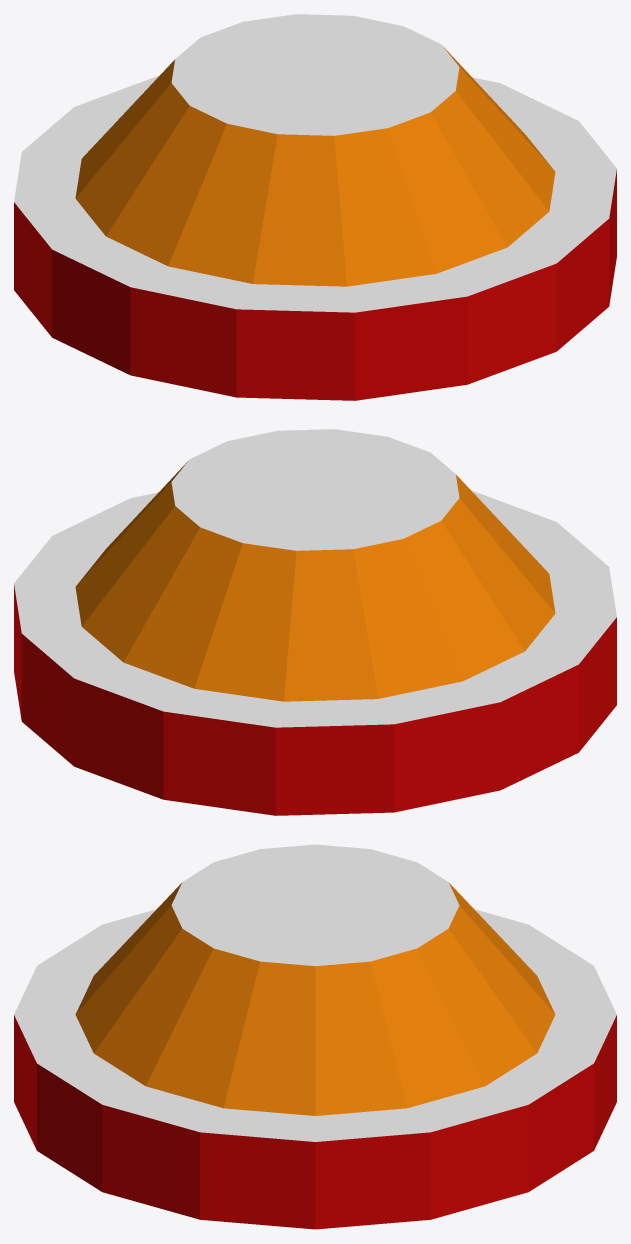
File: Paddle.fbx
3 views of the same model, one above another, from view 1: azimuth 30°, elevation 25°; view 2: azimuth 150°, elevation 25°; view 3: azimuth 270°, elevation 25° (orthographic).
Visible parts, largest first — view 1: Cylinder; view 2: Cylinder; view 3: Cylinder.
Part boxes in pixels (<box>): Cylinder: <box>14,14,616,400</box>; Cylinder: <box>14,429,616,815</box>; Cylinder: <box>14,844,616,1229</box>.
Size of the model in its own units: 200 by 72 by 200.
